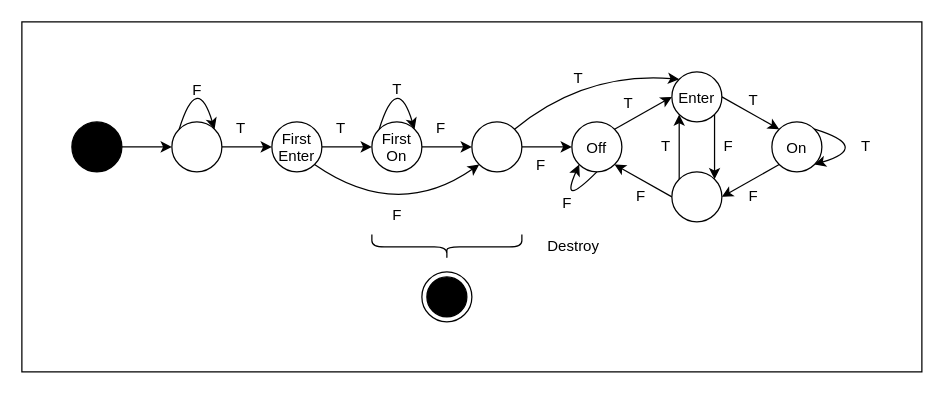
Image size: 944x394. Some labels were removed from this diagram. The centre of each missing label's shape, as x and y in pixels:
"Exit" goes at (x=696, y=196).
"First Exit" goes at (x=496, y=146).
"First Off" goes at (x=196, y=146).
